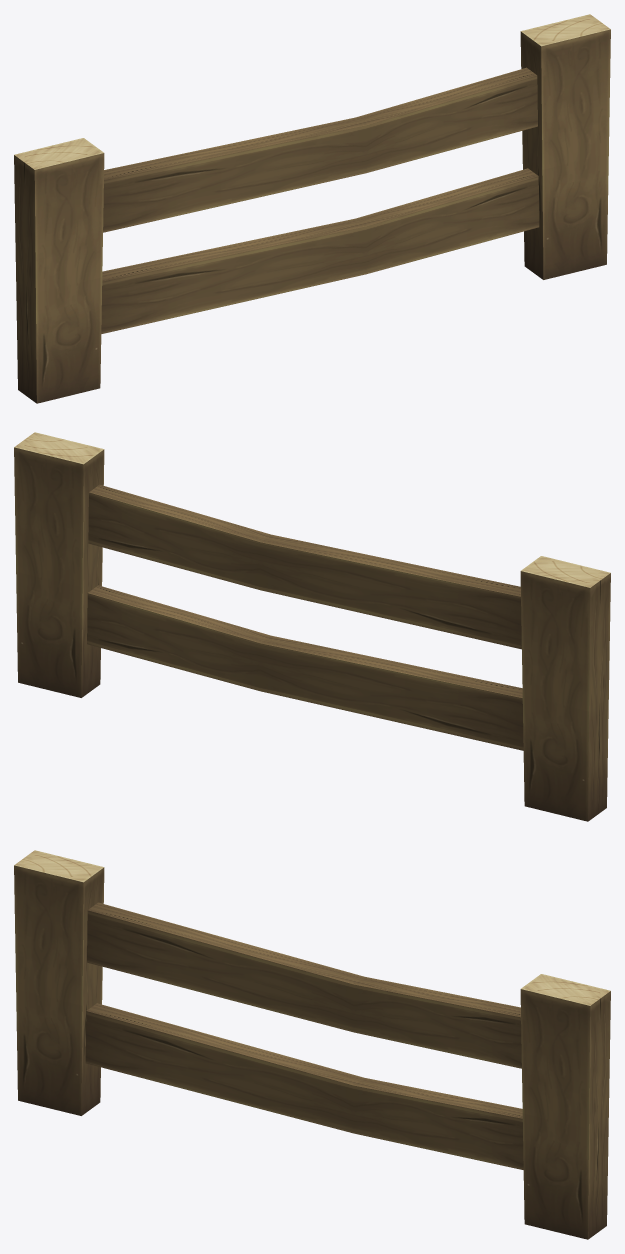
The model's file is wooden_fence_36.fbx.
The picture shows the model from 3 angles, top to bottom: view 1: azimuth 30°, elevation 25°; view 2: azimuth 150°, elevation 25°; view 3: azimuth 330°, elevation 25°; orthographic projection.
Parts seen in each view (by area): view 1: wooden_fence_36:Mesh; view 2: wooden_fence_36:Mesh; view 3: wooden_fence_36:Mesh.
Boxes of the visible parts, x1=… form: wooden_fence_36:Mesh: x1=14, y1=14, x2=610, y2=403; wooden_fence_36:Mesh: x1=14, y1=432, x2=610, y2=821; wooden_fence_36:Mesh: x1=14, y1=850, x2=610, y2=1239.
Bounding box in the file's own units: 7.11 × 2.77 × 0.4428.
